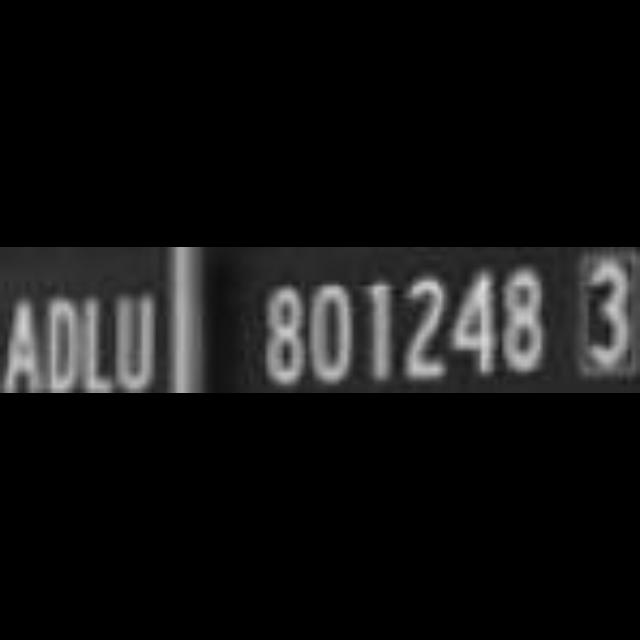0: (306, 280, 354, 392)
1: (361, 280, 397, 392)
2: (402, 272, 450, 386)
3: (585, 258, 633, 372)
4: (448, 266, 499, 379)
8: (500, 264, 548, 384), (260, 281, 308, 393)
a: (0, 298, 46, 392)
d: (46, 295, 82, 393)
l: (82, 295, 116, 393)
u: (116, 288, 160, 392)
